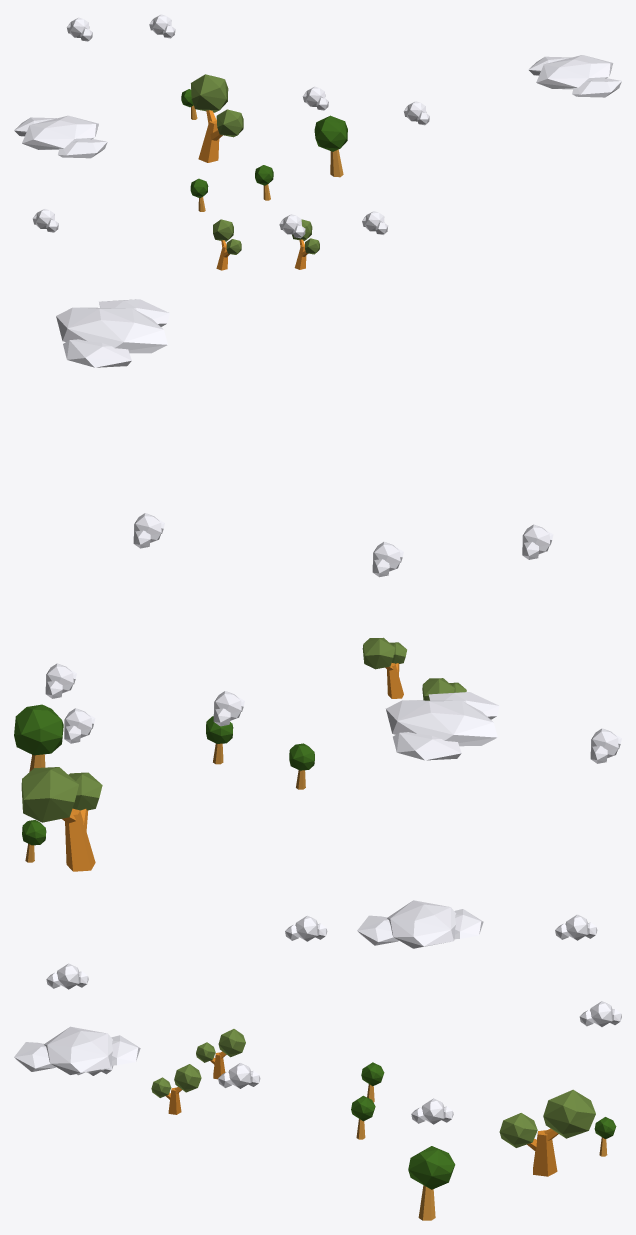
File: low_poly_landscape.glb
3 renders of one model, top to bottom at view 1: azimuth 30°, elevation 25°; view 2: azimuth 150°, elevation 25°; view 3: azimuth 270°, elevation 25°, orthographic. The views are drawn at different scales.
Visible parts, largest first — view 1: Icosphere.004_0.003, Icosphere.004_0.004, Icosphere.001_0.002, Cylinder.002, Icosphere, Icosphere.001_1.002, Icosphere.001, Icosphere.004_0.001, Icosphere.002_0.001, Icosphere.002, Icosphere.004, Icosphere.004_0.005 (+4 smaller); view 2: Icosphere.004_0.003, Icosphere.004_0.004, Icosphere.001_0.002, Cylinder.002, Icosphere.001, Icosphere.001_1.002, Icosphere.002_0.001, Icosphere.004, Icosphere.004_0.002, Icosphere.004_0.001, Icosphere.003, Icosphere.002 (+1 smaller); view 3: Icosphere.004_0.003, Icosphere.004_0.004, Icosphere.001_0.002, Cylinder.002, Icosphere.001, Icosphere, Icosphere.001_1.002, Icosphere.004, Icosphere.004_0.001, Icosphere.002, Icosphere.003, Icosphere.002_0.001 (+4 smaller).
Boxes of the visible parts, x1,y1,x2,y2 form: Icosphere.004_0.003: [528, 55, 621, 97]; Icosphere.004_0.004: [14, 115, 107, 158]; Icosphere.001_0.002: [191, 74, 243, 137]; Cylinder.002: [314, 115, 347, 177]; Icosphere: [213, 219, 241, 270]; Icosphere.001_1.002: [198, 110, 222, 162]; Icosphere.001: [292, 219, 319, 269]; Icosphere.004_0.001: [149, 14, 175, 38]; Icosphere.002_0.001: [279, 214, 305, 238]; Icosphere.002: [66, 17, 92, 41]; Icosphere.004: [302, 86, 328, 110]; Icosphere.004_0.005: [362, 211, 387, 234]; Icosphere.004_0.003: [56, 299, 169, 367]; Icosphere.004_0.004: [386, 692, 499, 760]; Icosphere.001_0.002: [21, 767, 102, 822]; Cylinder.002: [14, 704, 63, 771]; Icosphere.001: [362, 637, 406, 698]; Icosphere.001_1.002: [62, 808, 95, 871]; Icosphere.002_0.001: [522, 524, 553, 559]; Icosphere.004: [45, 663, 76, 698]; Icosphere.004_0.002: [133, 513, 164, 548]; Icosphere.004_0.001: [64, 708, 95, 743]; Icosphere.003: [590, 728, 621, 763]; Icosphere.002: [213, 691, 244, 726]; Icosphere.004_0.003: [14, 1026, 140, 1074]; Icosphere.004_0.004: [357, 900, 483, 948]; Icosphere.001_0.002: [499, 1089, 595, 1147]; Cylinder.002: [408, 1146, 455, 1220]; Icosphere.001: [151, 1064, 201, 1114]; Icosphere: [196, 1029, 245, 1079]; Icosphere.001_1.002: [527, 1128, 558, 1176]; Icosphere.004: [411, 1098, 453, 1124]; Icosphere.004_0.001: [579, 1001, 621, 1026]; Icosphere.002: [555, 914, 597, 940]; Icosphere.003: [285, 915, 327, 941]; Icosphere.002_0.001: [46, 963, 88, 989].
Bounding box in the file's own units: 49.87 × 19.23 × 45.5.
